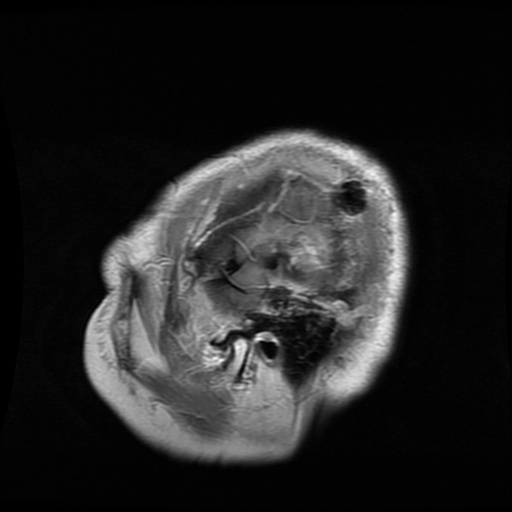glioma: (235, 218, 337, 271)
